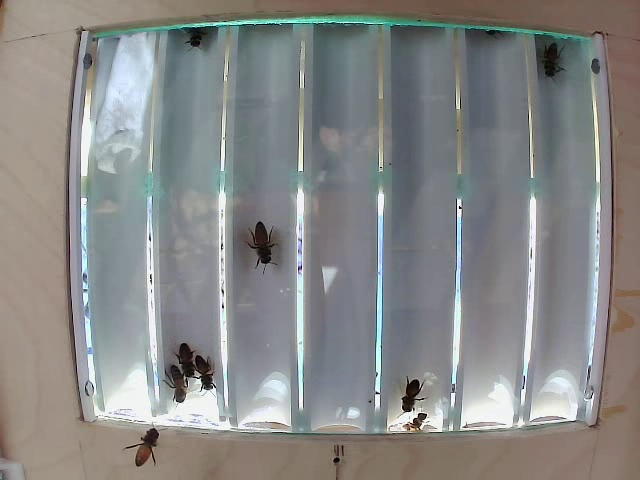bee: (234, 213, 286, 284), (533, 30, 569, 85), (166, 338, 197, 376), (197, 347, 219, 396), (158, 373, 187, 405), (409, 378, 430, 415)
